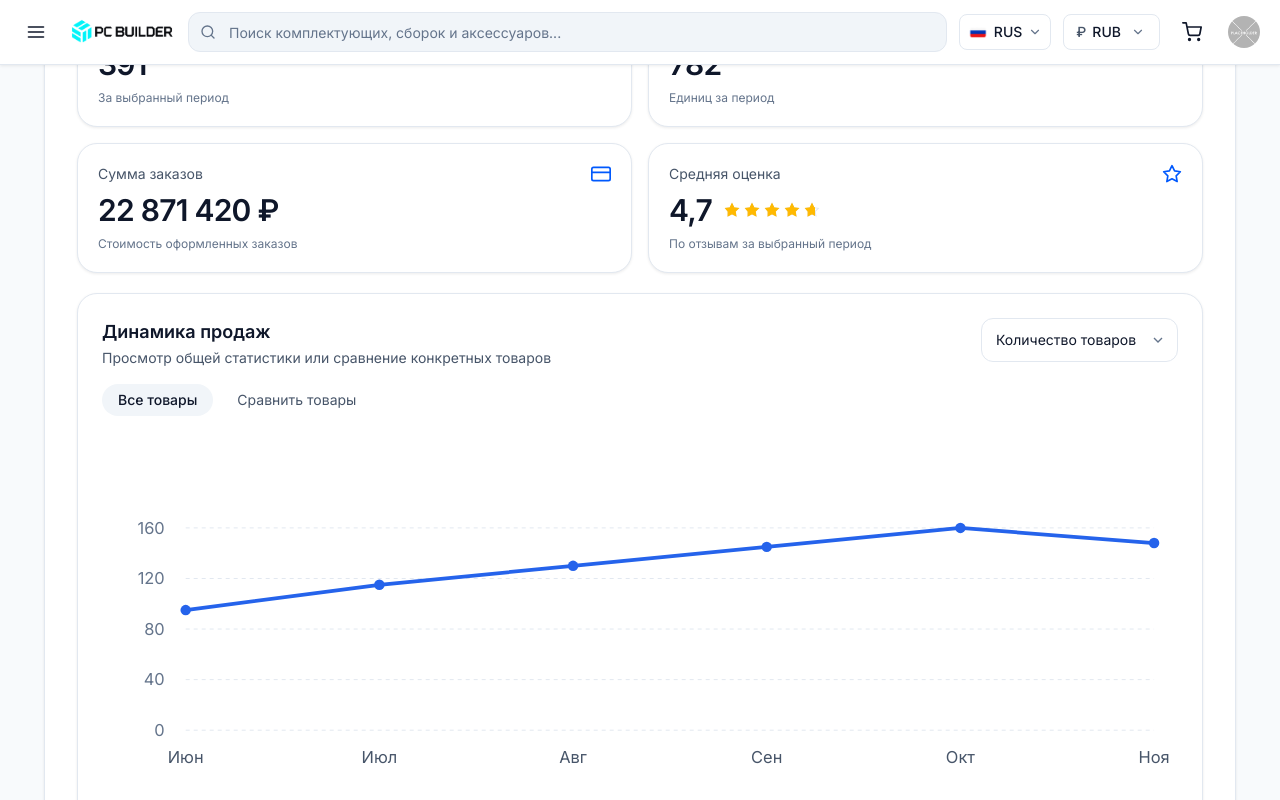
Test: admin analytics › keeps the selected comparison product name when the search results no longer contain it
(page scrolled)
expect the text "391" is shown: met, box x1=98 y1=46 x2=147 y2=82
Click the button "Сравнить товары" at (297,400), box x1=221 y1=384 x2=372 y2=416
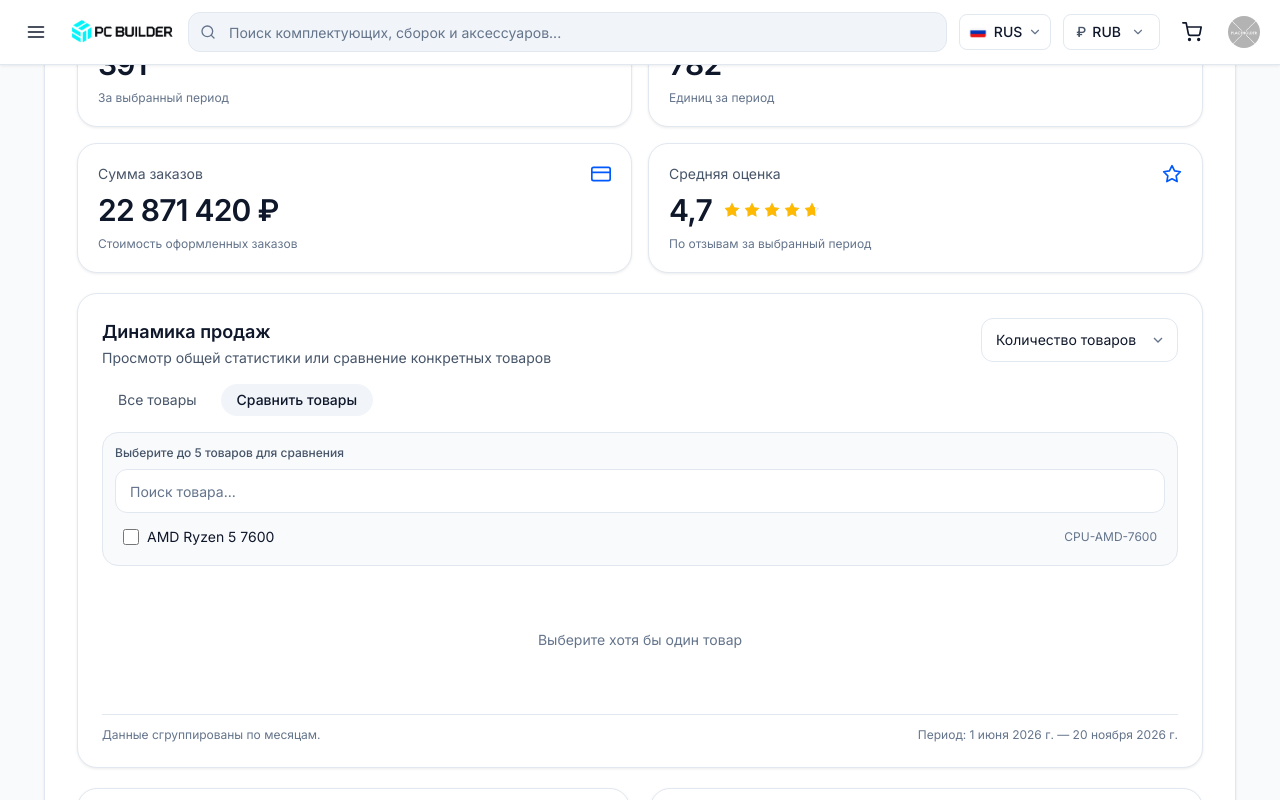
Click the checkbox at (131,537), box x1=123 y1=529 x2=139 y2=545
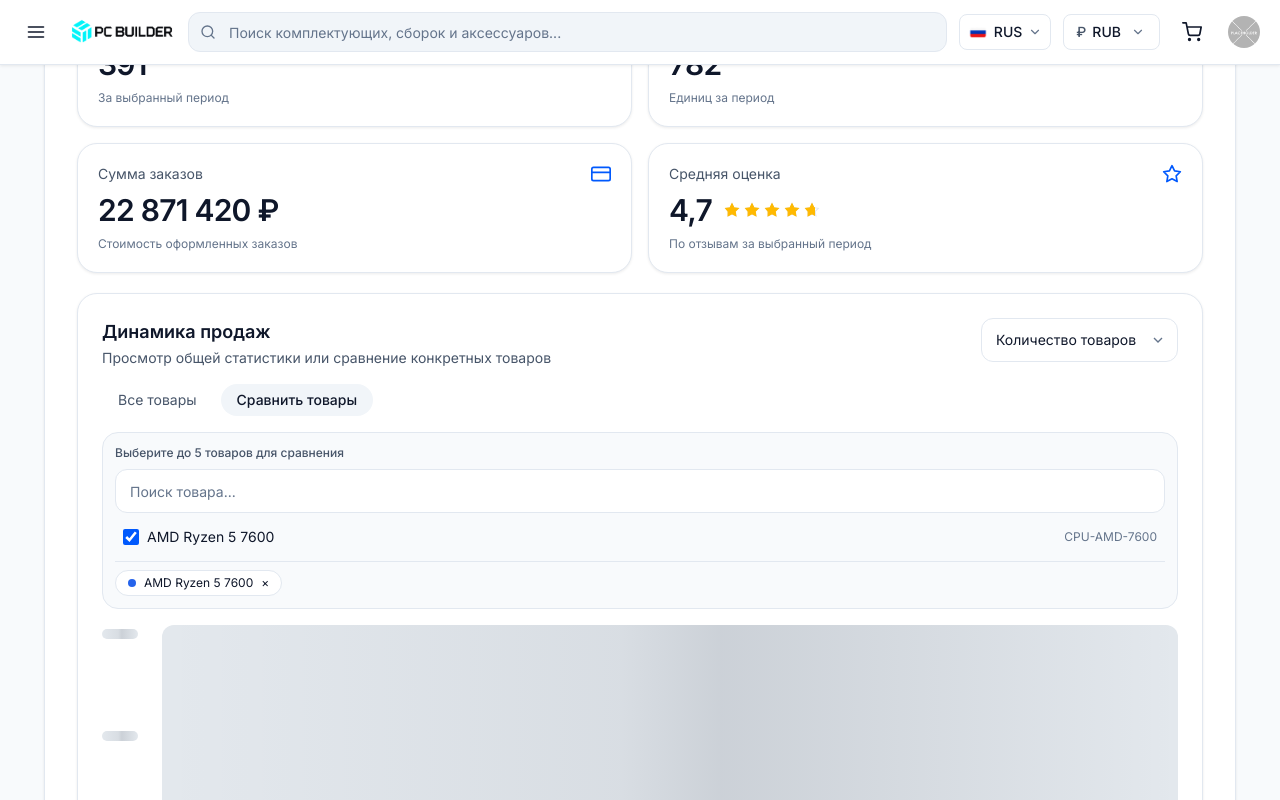
expect the button "AMD Ryzen 5 7600 ×" is shown: met, box x1=115 y1=570 x2=282 y2=596
Type "zzz" into the search field labelled "Поиск товара..." at (640,491), box x1=115 y1=469 x2=1165 y2=513
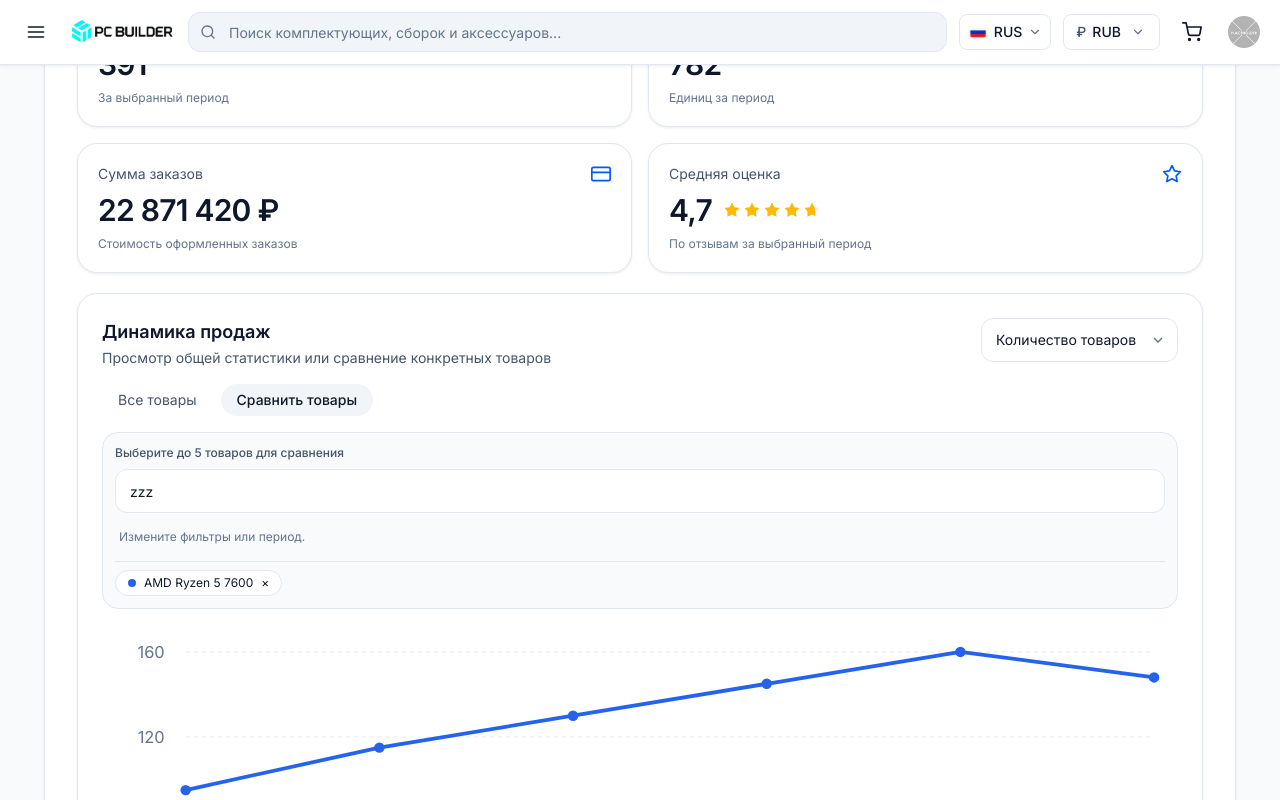
expect the checkbox is gone: met
